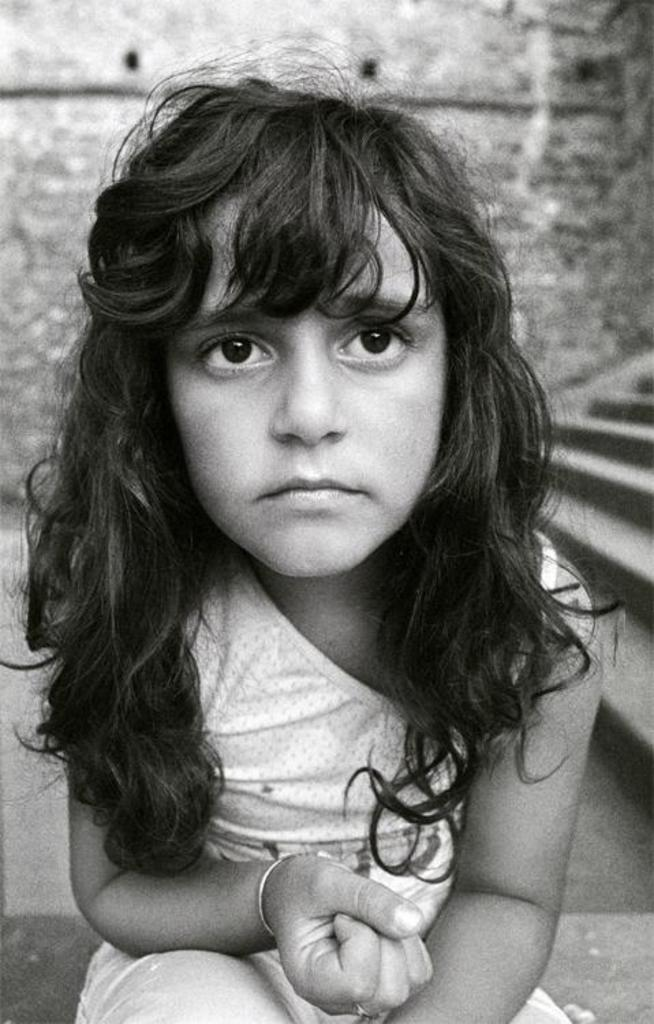Human-face: (175, 213, 453, 587)
